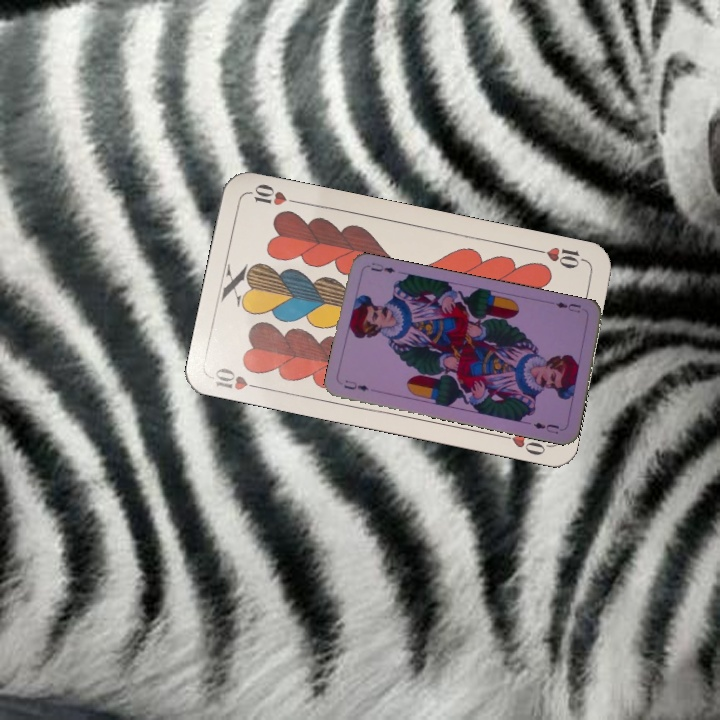EU: (552, 298, 584, 316), (340, 376, 371, 394)
H10: (531, 242, 589, 272), (210, 363, 267, 393)
